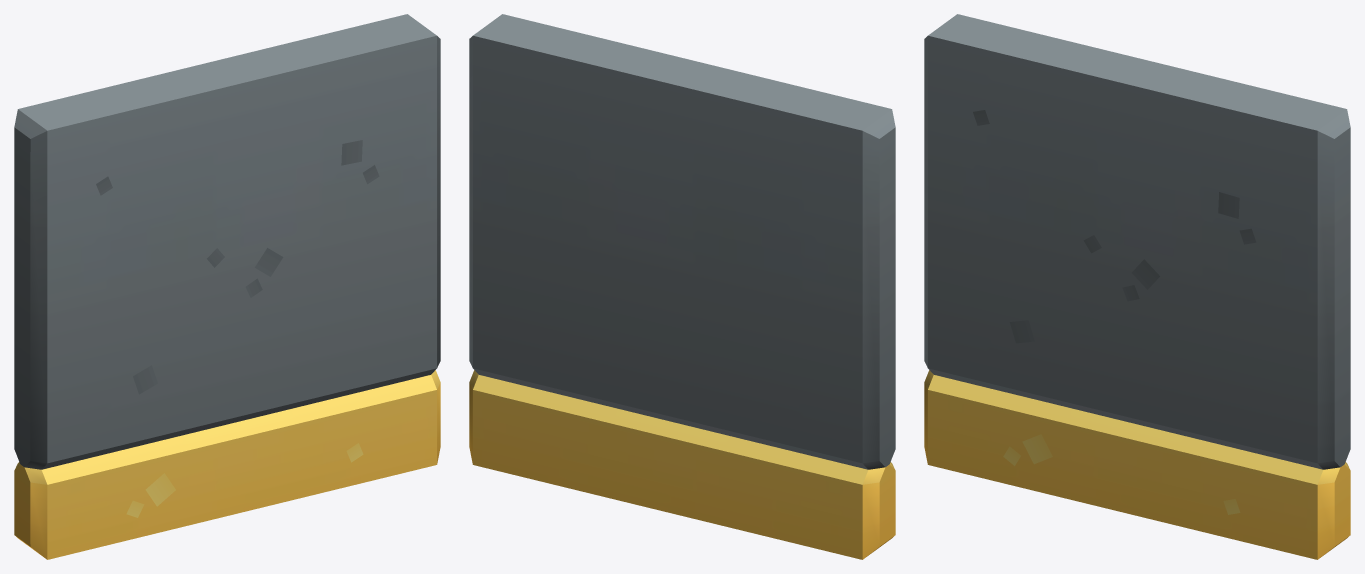
File: kaykit-prototype-bits-wall.glb
The picture shows the model from 3 angles, left to right: view 1: azimuth 30°, elevation 25°; view 2: azimuth 150°, elevation 25°; view 3: azimuth 330°, elevation 25°; orthographic projection.
Visible parts, largest first — view 1: Wall; view 2: Wall; view 3: Wall.
Boxes of the visible parts, left/top/right/bottom form: Wall: left=14, top=14, right=440, bottom=559; Wall: left=469, top=14, right=895, bottom=559; Wall: left=924, top=14, right=1350, bottom=559.
Size of the model in its own units: 4 by 4 by 0.5298.
Materials: 1 (1 with a texture image).
